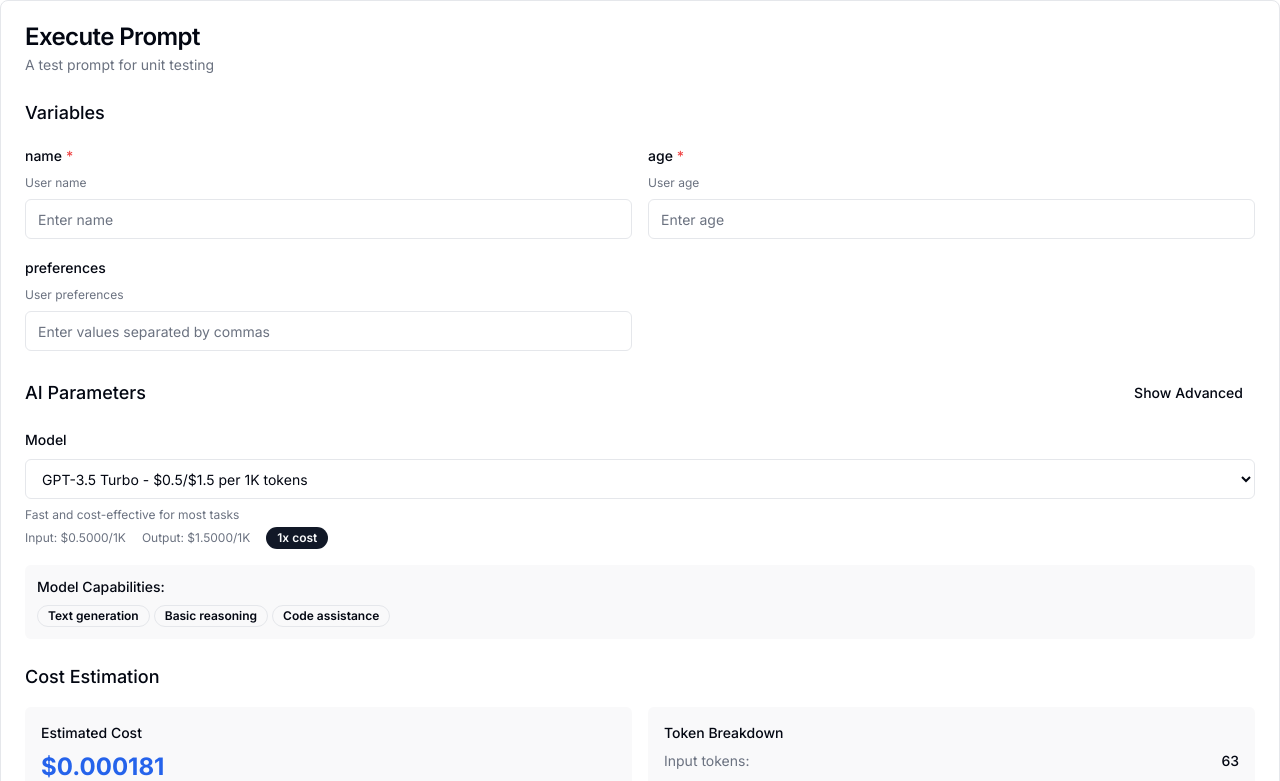
EnhancedExecutionPanel › Execution Flow › shows loading state during execution
The image size is (1280, 781).
Type "John Doe" into the field labelled "name*" at [328, 219], box [25,199,632,239]
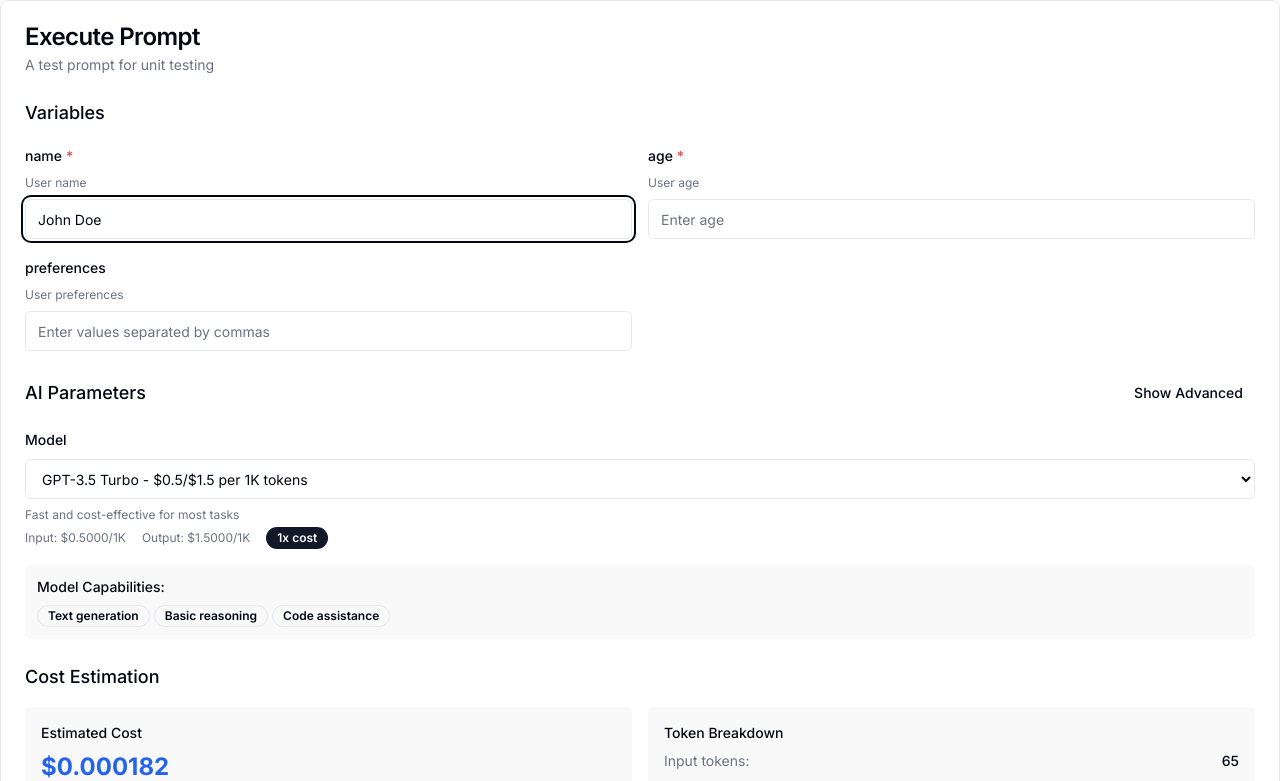
Type "25" into the number field labelled "age*" at [952, 219], box [648,199,1255,239]
(page scrolled)
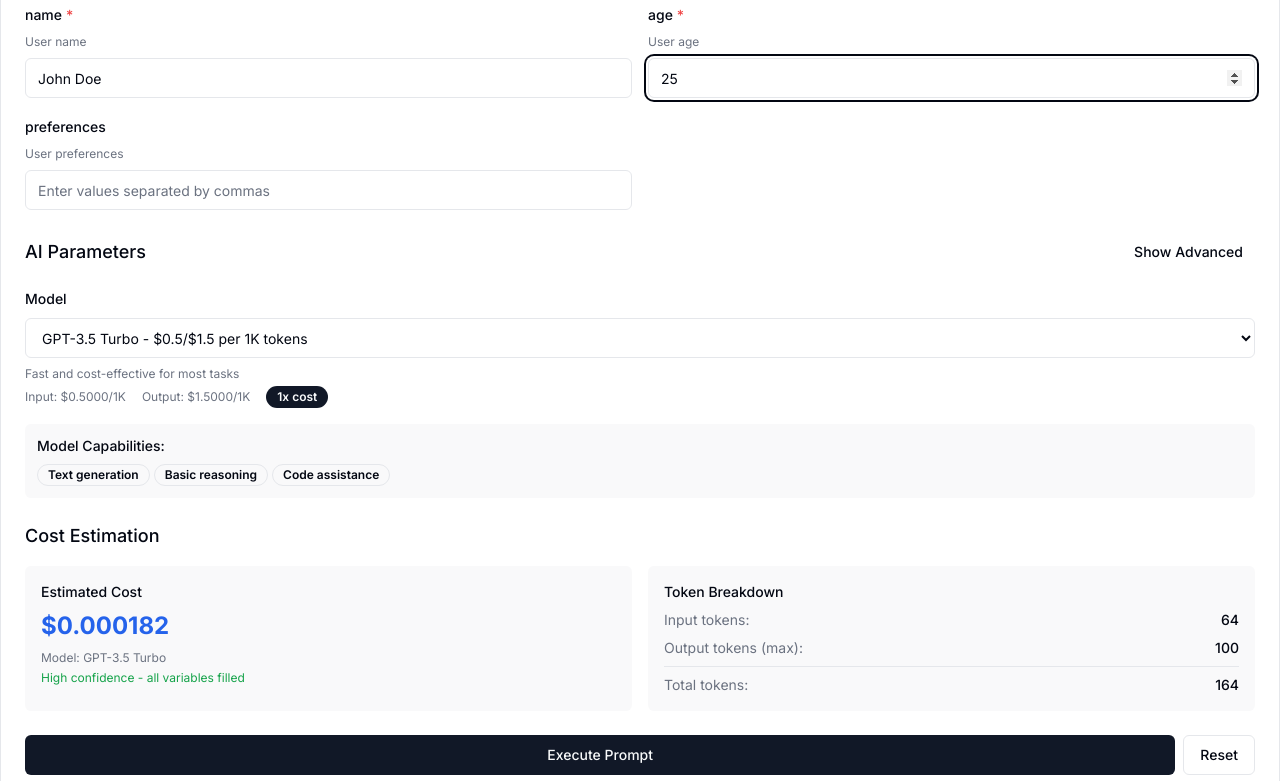
Click the button with test id "execute-prompt-button" at [600, 755], box [25,735,1175,775]
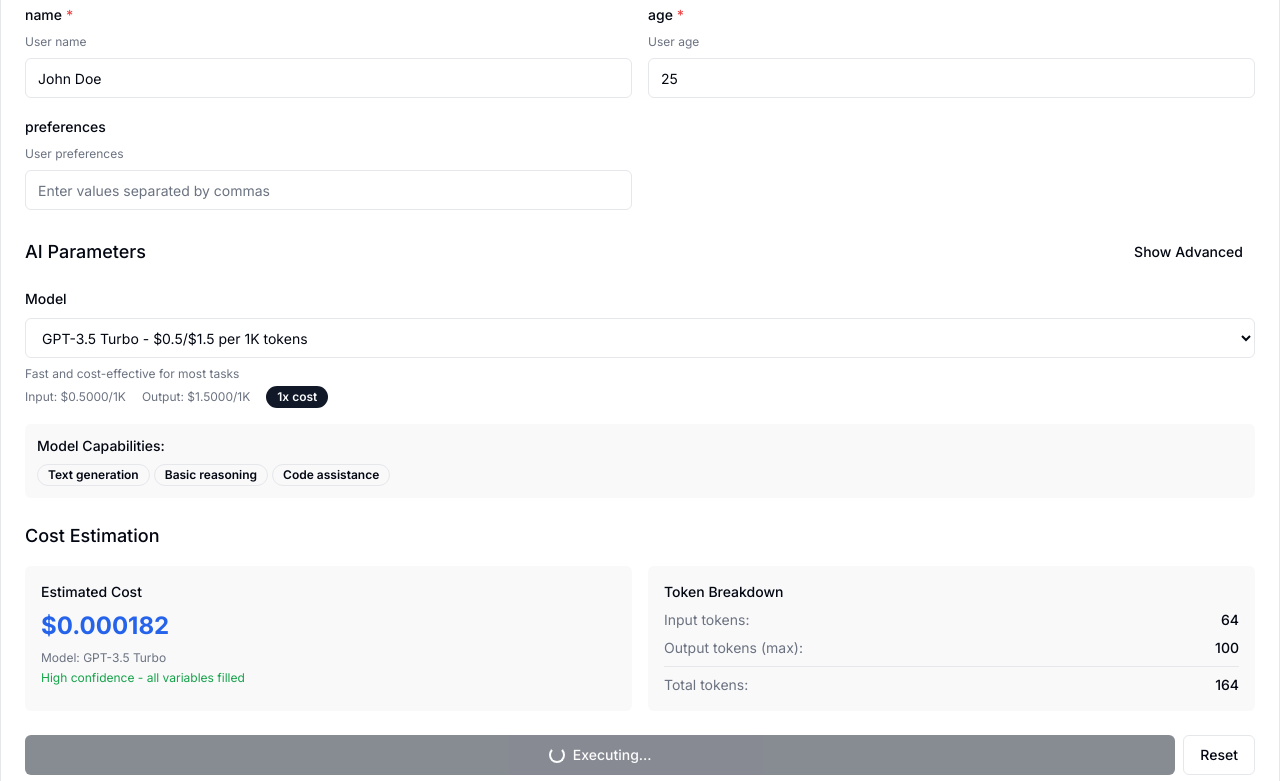
Now the button "Executing..." is disabled, box [25,735,1175,775]
